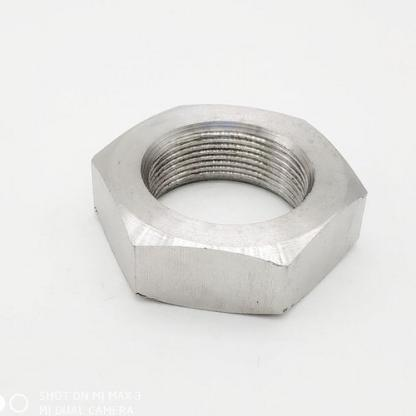FOD: (89, 101, 369, 318)
